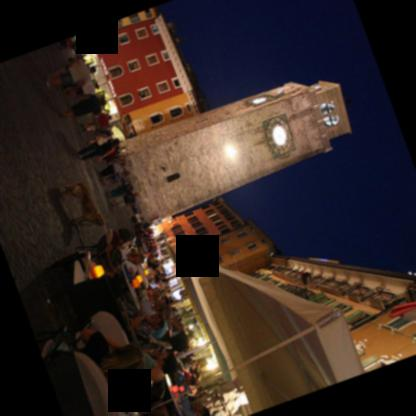handbag: (94, 134, 110, 145)
